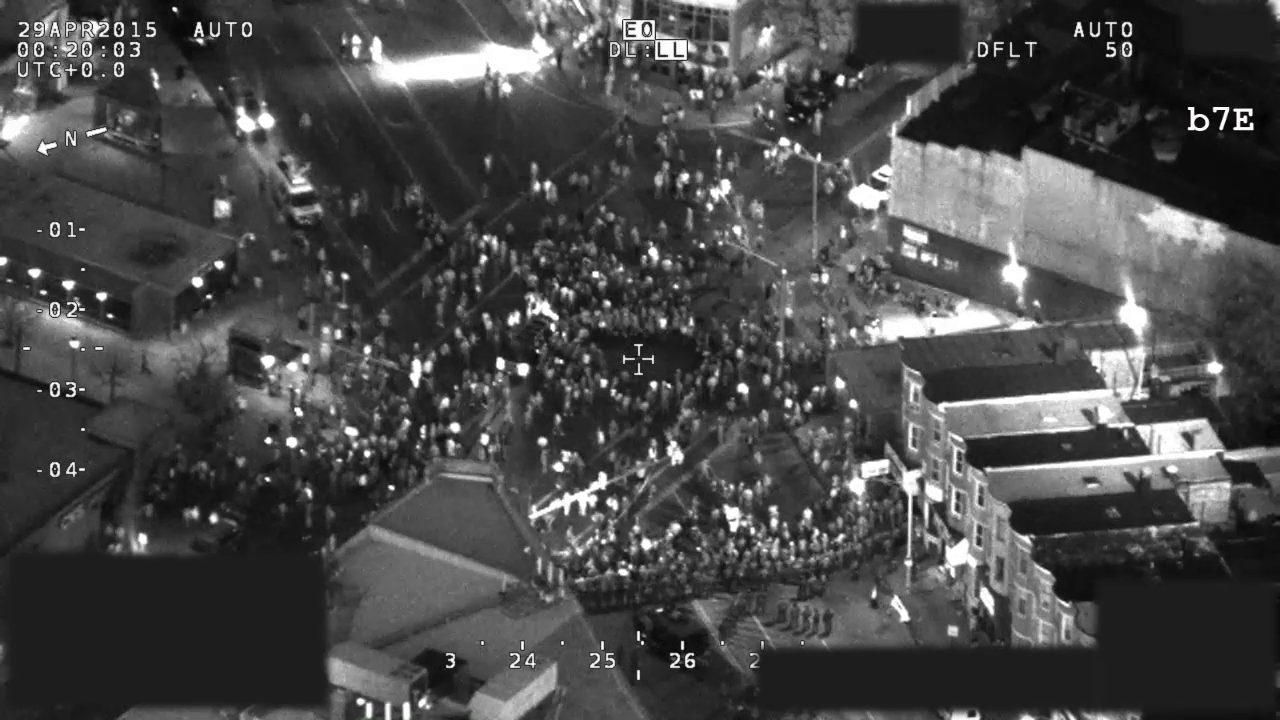vehicle: (491, 305, 568, 385), (625, 597, 715, 665), (213, 71, 281, 143), (268, 155, 328, 233), (176, 506, 250, 567), (785, 77, 841, 133), (845, 155, 892, 217)
